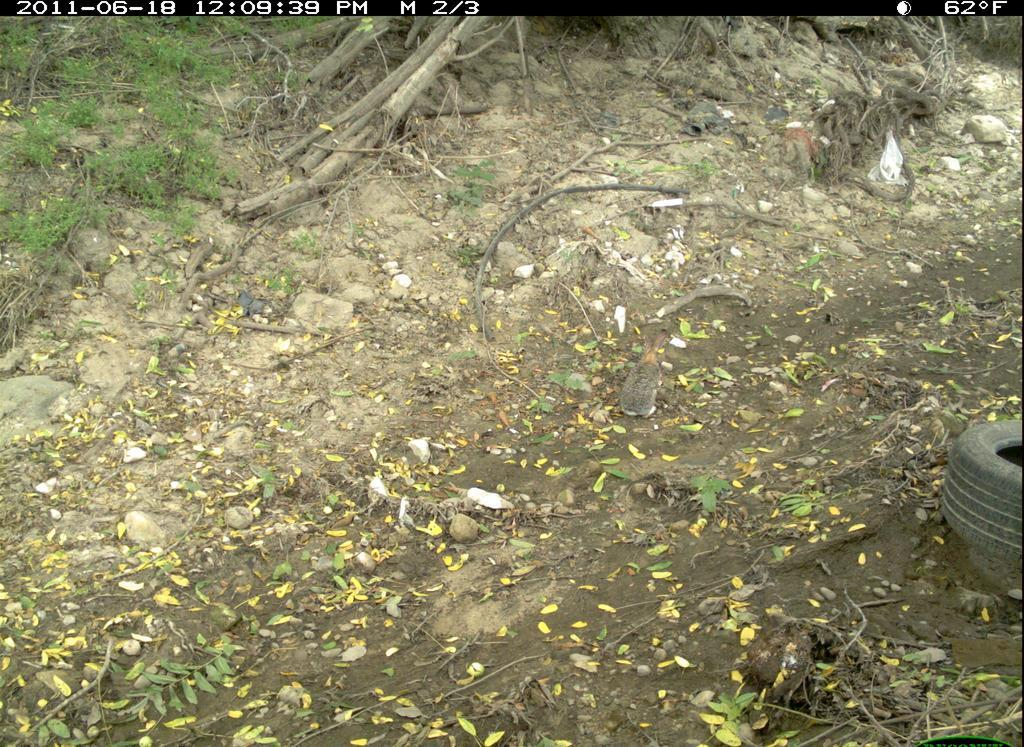rabbit: (619, 306, 676, 457)
